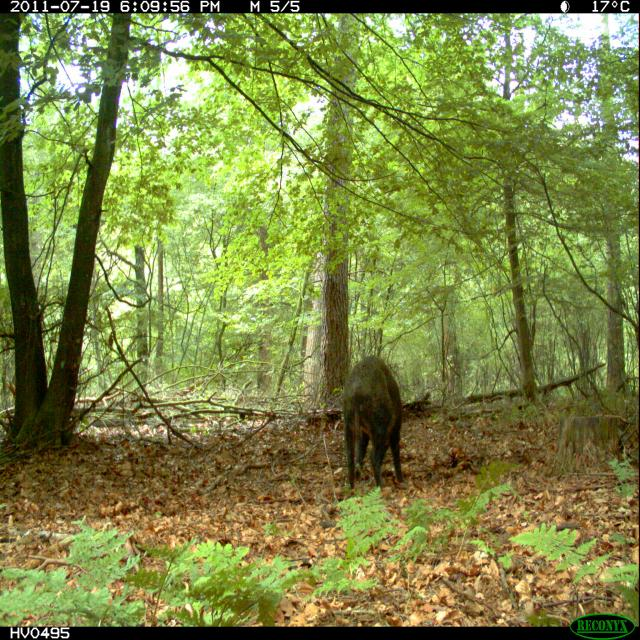boar: (291, 310, 438, 501)
